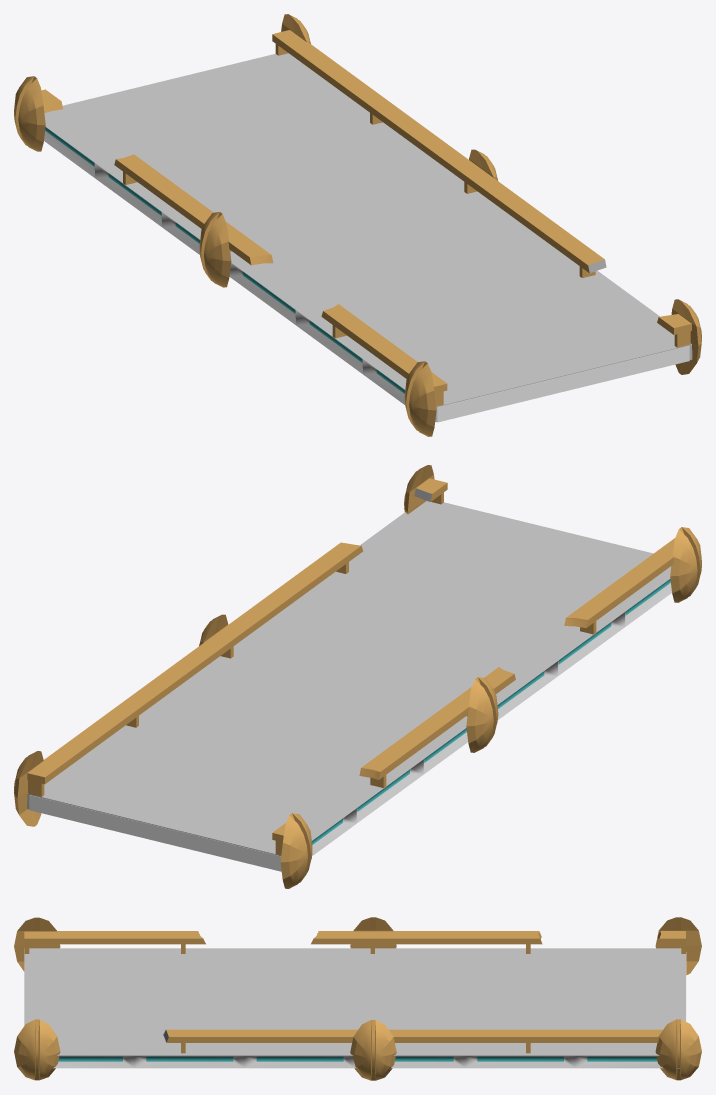
Rendered from bridge4.fbx.
The picture shows the model from 3 angles, top to bottom: view 1: azimuth 30°, elevation 25°; view 2: azimuth 150°, elevation 25°; view 3: azimuth 270°, elevation 25°; orthographic projection. The views are drawn at different scales.
Parts seen in each view (by area): view 1: bridge, mainbridgebody1_railing2, mainbridgebody1_railing1, bridgeinterior, railing_side_object3, railing_side_object1, railing_side_object5, railing_side_object; view 2: bridge, mainbridgebody1_railing2, mainbridgebody1_railing1, bridgeinterior, railing_side_object3, railing_side_object5, railing_side_object1, railing_side_object2, railing_side_object; view 3: bridge, mainbridgebody1_railing2, mainbridgebody1_railing1, railing_side_object, railing_side_object2, railing_side_object4, railing_side_object3, railing_side_object1, railing_side_object5.
Boxes of the visible parts, bbox=[...] form: bridge: bbox=[44, 53, 692, 422]; mainbridgebody1_railing2: bbox=[272, 30, 691, 334]; mainbridgebody1_railing1: bbox=[41, 89, 447, 393]; bridgeinterior: bbox=[437, 345, 689, 422]; railing_side_object3: bbox=[14, 76, 45, 151]; railing_side_object1: bbox=[404, 361, 436, 436]; railing_side_object5: bbox=[199, 212, 231, 287]; railing_side_object: bbox=[671, 299, 701, 374]; bridge: bbox=[27, 501, 671, 855]; mainbridgebody1_railing2: bbox=[27, 478, 447, 784]; mainbridgebody1_railing1: bbox=[272, 538, 674, 840]; bridgeinterior: bbox=[29, 795, 281, 871]; railing_side_object3: bbox=[280, 813, 312, 888]; railing_side_object5: bbox=[466, 677, 498, 752]; railing_side_object1: bbox=[670, 527, 701, 602]; railing_side_object2: bbox=[14, 751, 43, 826]; railing_side_object: bbox=[404, 465, 434, 514]; bridge: bbox=[24, 948, 685, 1068]; mainbridgebody1_railing2: bbox=[163, 1029, 662, 1042]; mainbridgebody1_railing1: bbox=[24, 931, 685, 944]; railing_side_object: bbox=[14, 1019, 60, 1080]; railing_side_object2: bbox=[655, 1019, 701, 1080]; railing_side_object4: bbox=[350, 1020, 396, 1080]; railing_side_object3: bbox=[655, 917, 701, 975]; railing_side_object1: bbox=[14, 917, 60, 971]; railing_side_object5: bbox=[350, 917, 396, 948].
Size of the model in its own units: 7.18 by 1.73 by 17.71.
